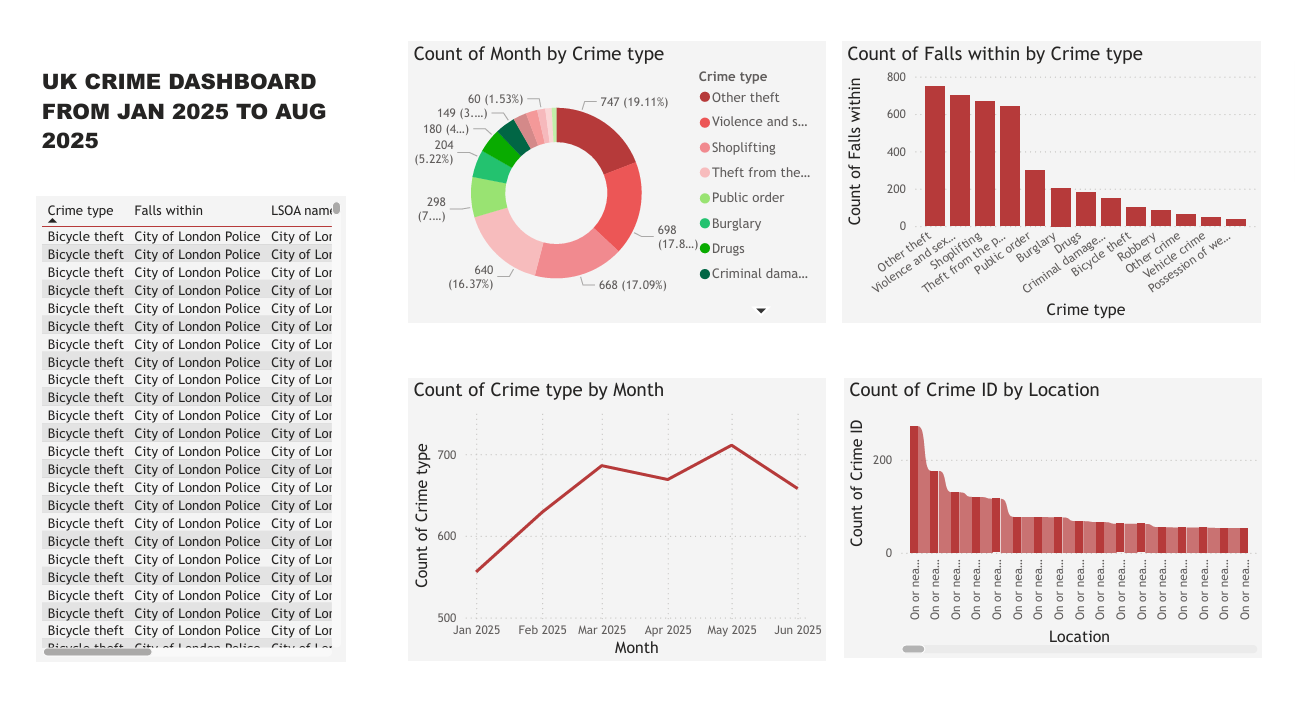

This screenshot's page, from the dashboard's own definition file:
{"tool":"powerbi","page":{"name":"Page 1","canvas":[1280,720],"ordinal":0},"visuals":[{"type":"tableEx","fields":{"Values":["cleaned_crime_data.Crime type","cleaned_crime_data.Falls within","cleaned_crime_data.LSOA name","cleaned_crime_data.Month.Variation.Date Hierarchy.Year","cleaned_crime_data.Month.Variation.Date Hierarchy.Quarter","cleaned_crime_data.Month.Variation.Date Hierarchy.Month","cleaned_crime_data.Month.Variation.Date Hierarchy.Day","cleaned_crime_data.Location"]},"box":[9.4,0,323.2,359.1],"z":0},{"type":"columnChart","fields":{"Category":["cleaned_crime_data.Crime type"],"Y":["CountNonNull(cleaned_crime_data.Falls within)"]},"box":[332.6,0,918.4,287.2],"z":1000},{"type":"lineChart","fields":{"Category":["cleaned_crime_data.Month"],"Y":["CountNonNull(cleaned_crime_data.Crime type)"]},"box":[342,287.2,459.2,432.8],"z":2000},{"type":"ribbonChart","fields":{"Y":["CountNonNull(cleaned_crime_data.Crime ID)"],"Category":["cleaned_crime_data.Location"]},"box":[801.3,326.9,449.8,393.1],"z":3000},{"type":"donutChart","fields":{"Category":["cleaned_crime_data.Crime type"],"Y":["CountNonNull(cleaned_crime_data.Month)"]},"box":[9,359,323,361],"z":4000}]}

Visuals, with their boxes in screenshot pixels (x1, y1, x2, y2), scaled from the page's 1280x720 canvas onto the 1306x727 screenshot:
tableEx - cleaned_crime_data.Crime type x cleaned_crime_data.Falls within: x1=10 y1=0 x2=339 y2=363
columnChart - cleaned_crime_data.Crime type x CountNonNull(cleaned_crime_data.Falls within): x1=339 y1=0 x2=1276 y2=290
lineChart - cleaned_crime_data.Month x CountNonNull(cleaned_crime_data.Crime type): x1=349 y1=290 x2=817 y2=726
ribbonChart - CountNonNull(cleaned_crime_data.Crime ID) x cleaned_crime_data.Location: x1=818 y1=330 x2=1277 y2=726
donutChart - cleaned_crime_data.Crime type x CountNonNull(cleaned_crime_data.Month): x1=9 y1=362 x2=339 y2=726
